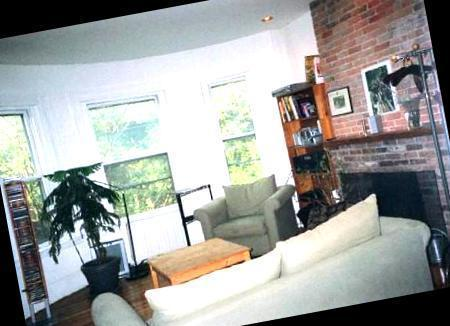Matera: (37, 155, 134, 302)
